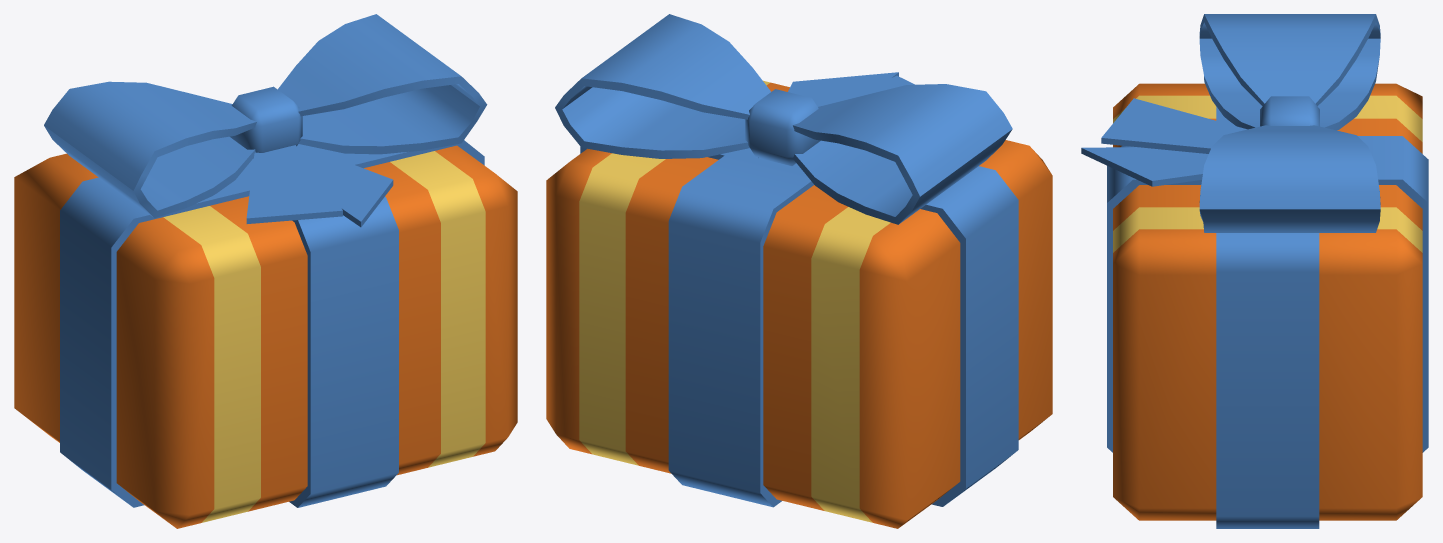
File: Gift_15_231109.glb
3 renders of one model, left to right at view 1: azimuth 30°, elevation 25°; view 2: azimuth 150°, elevation 25°; view 3: azimuth 270°, elevation 25°, orthographic. The views are drawn at different scales.
Parts seen in each view (by area): view 1: Gift_15; view 2: Gift_15; view 3: Gift_15.
Part boxes in pixels (left/top/right/bottom): Gift_15: left=14, top=14, right=517, bottom=528; Gift_15: left=546, top=14, right=1052, bottom=528; Gift_15: left=1081, top=14, right=1428, bottom=528.
Bounding box in the file's own units: 0.7861 × 0.7216 × 0.6277.
1 material, 1 textured.
